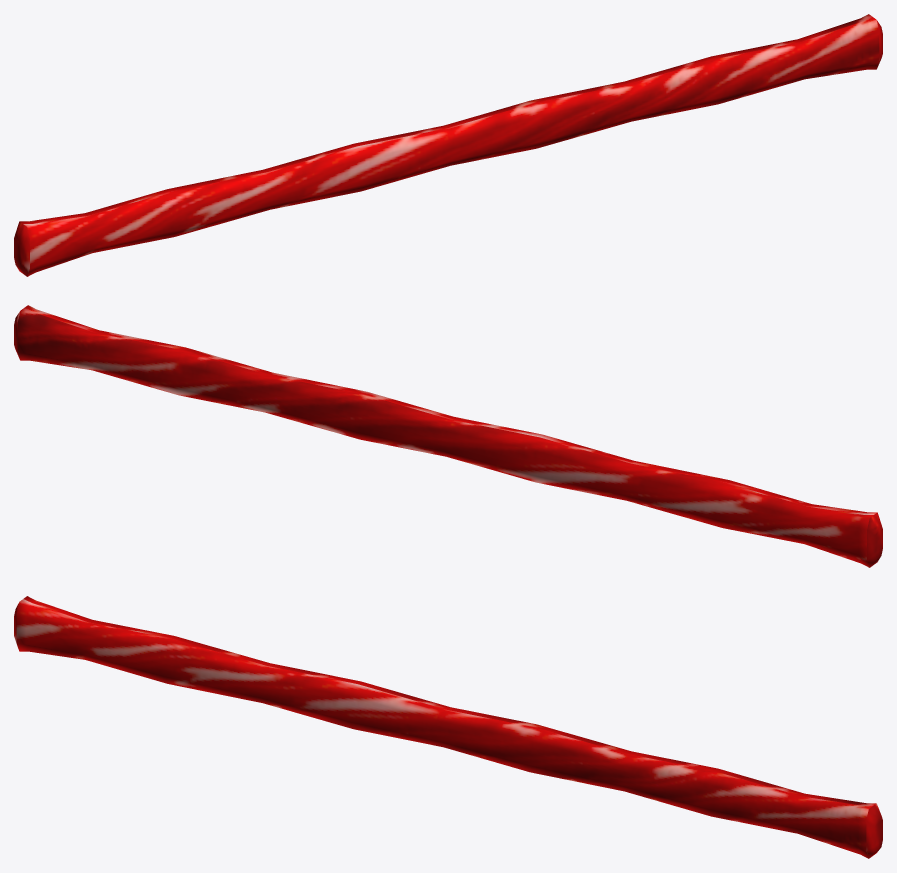
The model's file is Licorice.fbx.
3 renders of one model, top to bottom at view 1: azimuth 30°, elevation 25°; view 2: azimuth 150°, elevation 25°; view 3: azimuth 330°, elevation 25°, orthographic.
Visible parts, largest first — view 1: Licorice; view 2: Licorice; view 3: Licorice.
Boxes of the visible parts, x1,y1,x2,y2 form: Licorice: [14, 14, 882, 276]; Licorice: [14, 305, 882, 567]; Licorice: [14, 596, 882, 858].
Size of the model in its own units: 605 by 33.56 by 15.91.
1 material, 1 textured.
